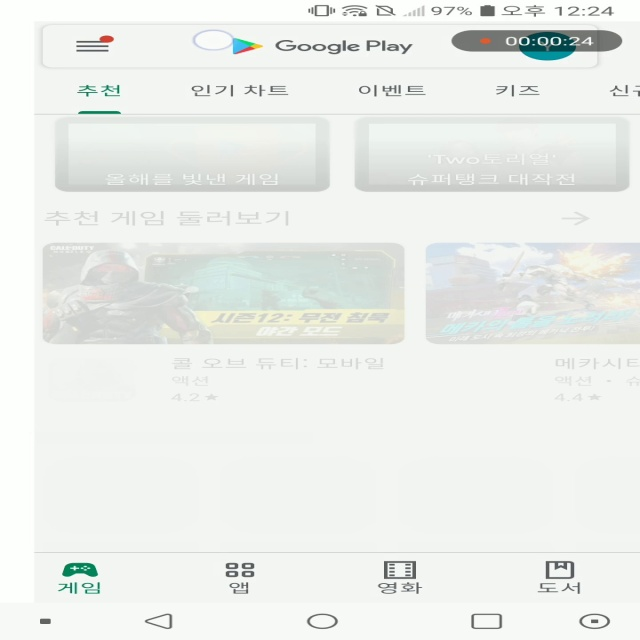Cursor: (192, 29, 236, 52)
